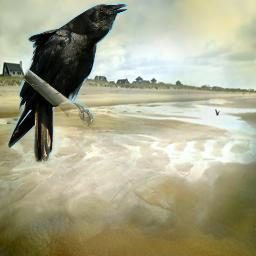Crow: (7, 2, 128, 164)
